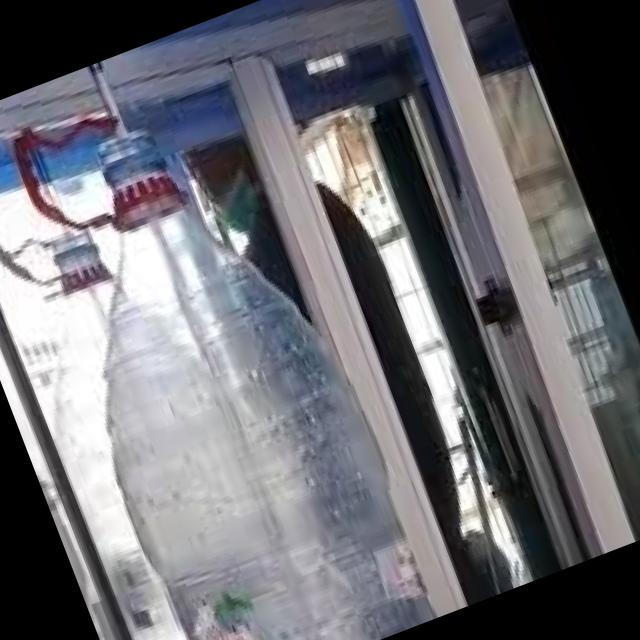Galon: (0, 17, 446, 640)
